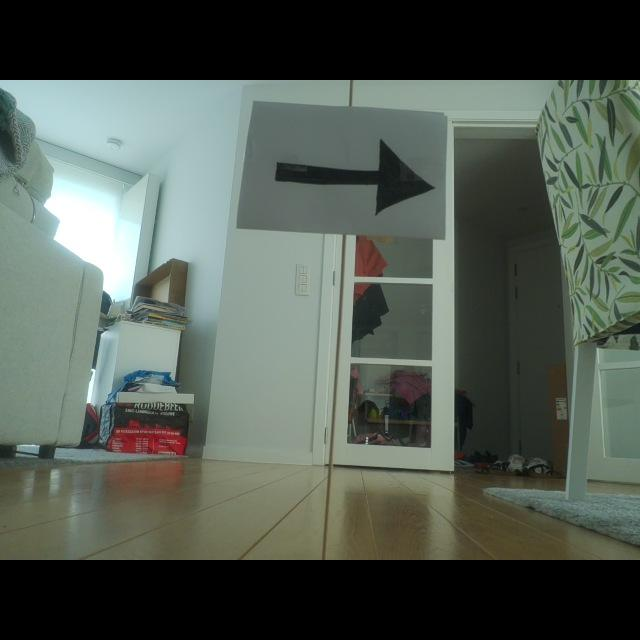jobbra_nyil: (275, 140, 434, 214)
